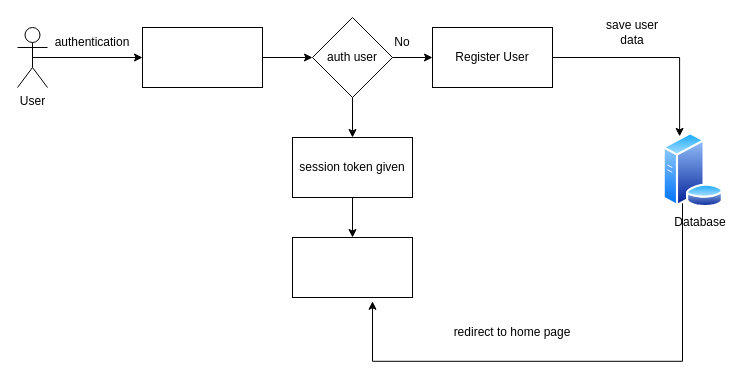
This 748x387 diagram has some shape labels left out. The centre of each missing label's shape, as x and y in pixels:
"Auth Service" belongs at [202,57].
"Home Page" belongs at [352,267].
